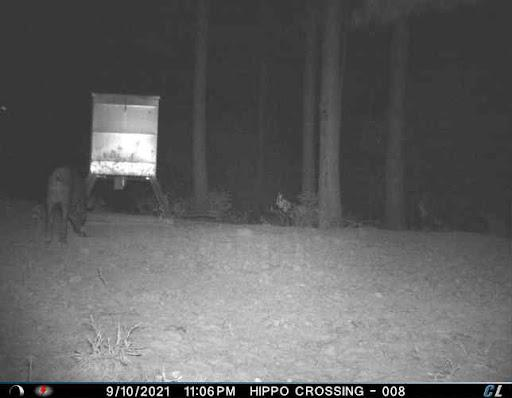Hog: (42, 161, 98, 247)
